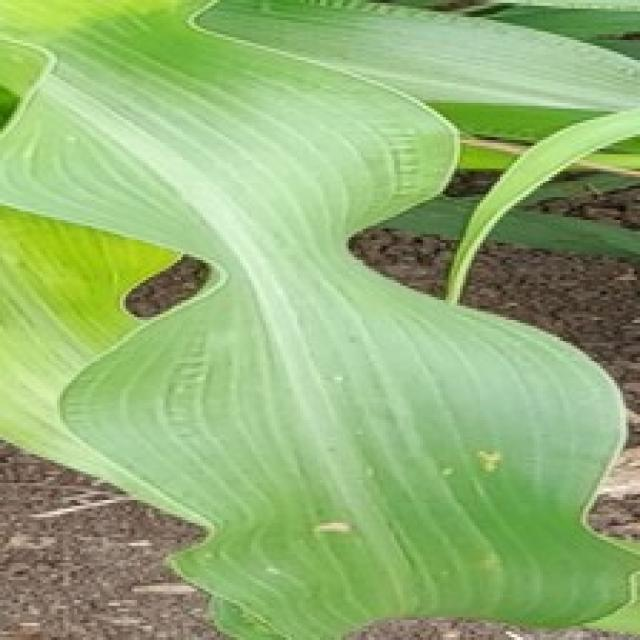Corn: (0, 0, 637, 637), (186, 0, 637, 303)
